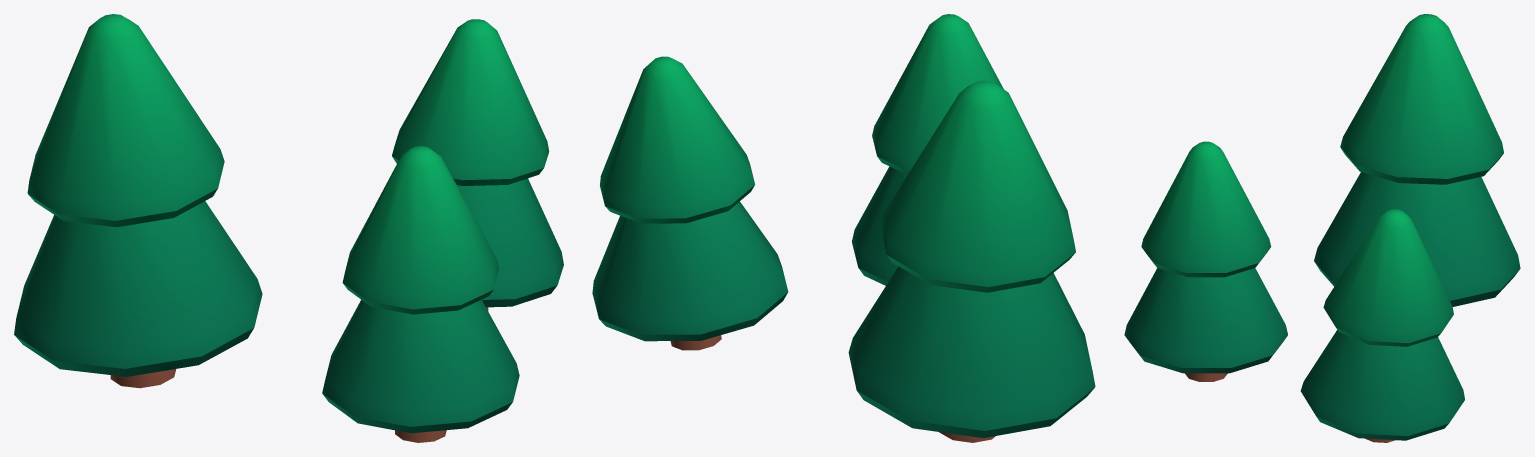
Rendered from hex_trees_b_small.glb.
3 views of the same model, side by side, from view 1: azimuth 30°, elevation 25°; view 2: azimuth 150°, elevation 25°; view 3: azimuth 270°, elevation 25° (orthographic). The views are drawn at different scales.
Visible parts, largest first — view 1: hex_trees_b_small; view 2: hex_trees_b_small; view 3: hex_trees_b_small.
Boxes of the visible parts, box(x1,y1,x2,y2) form: hex_trees_b_small: box(14, 14, 563, 442); hex_trees_b_small: box(592, 14, 1095, 442); hex_trees_b_small: box(1124, 14, 1520, 442).
Size of the model in its own units: 0.6642 by 0.4609 by 0.5692.
1 material, 1 textured.
